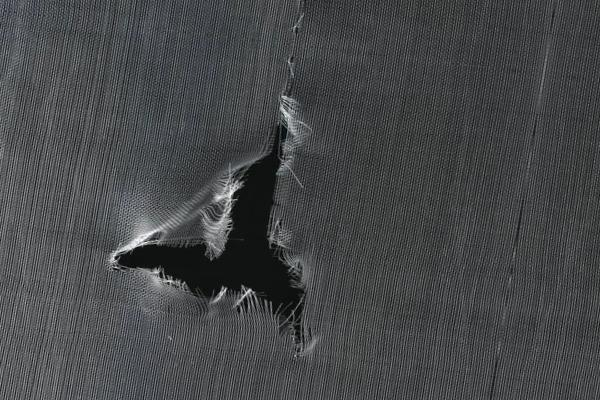hole: (106, 117, 330, 347)
